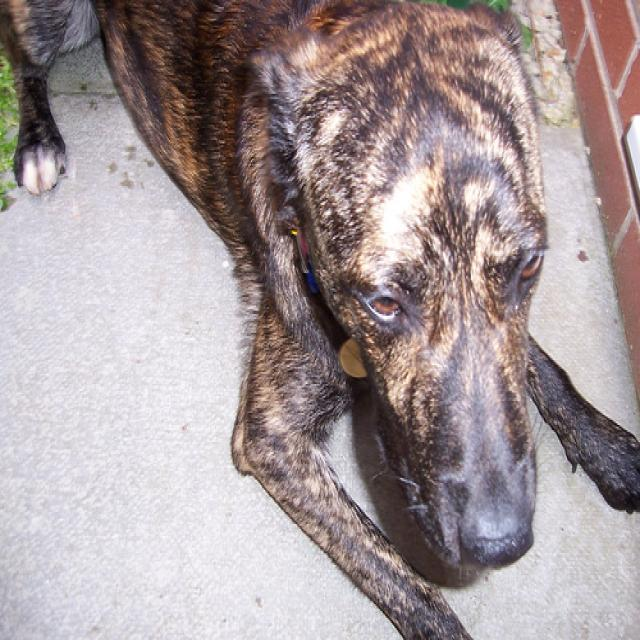dog-staffordshire_bull_terrier: (1, 2, 637, 637)
